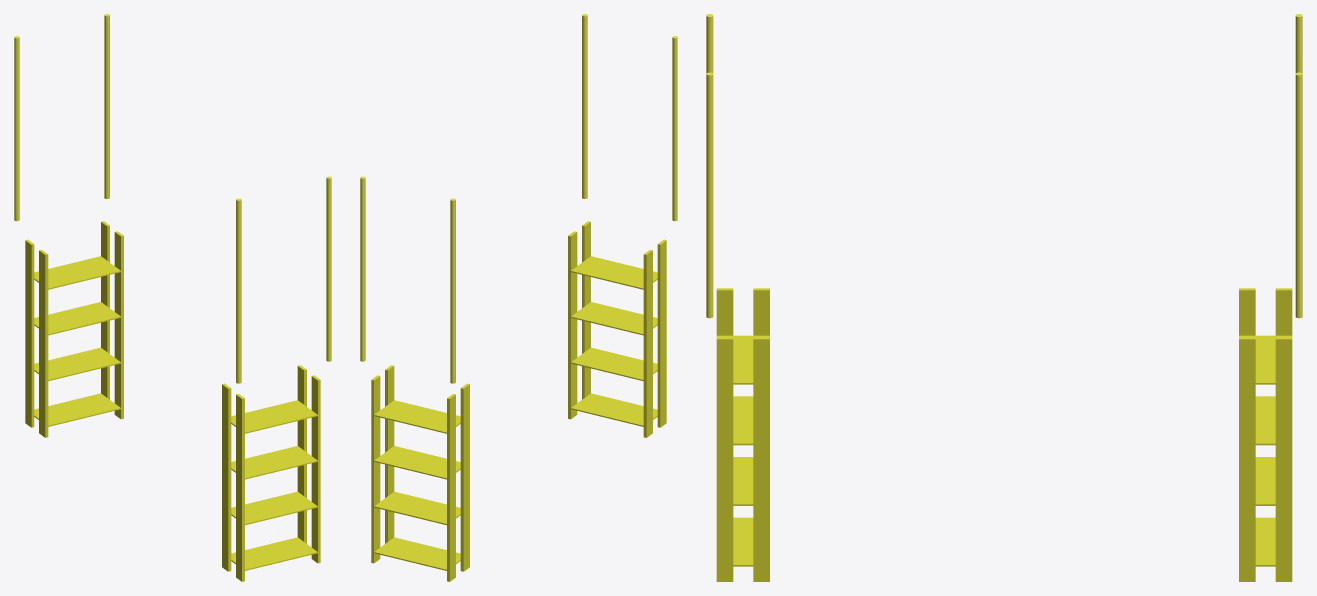
The model's file is PF-L140_cab_steps_grabs.glb.
3 renders of one model, left to right at view 1: azimuth 30°, elevation 25°; view 2: azimuth 150°, elevation 25°; view 3: azimuth 270°, elevation 25°, orthographic. The views are drawn at different scales.
Visible parts, largest first — view 1: 015 step stringer FB 20x75, 004 step stringer FB 20x75, 005 step stringer FB 20x75, 016 step stringer FB 20x75, 007 step stringer FB 20x75, 014 step stringer FB 20x75, 000 cab step tread PL8 grip strut, 001 cab step tread PL8 grip strut, 002 cab step tread PL8 grip strut, 003 cab step tread PL8 grip strut, 010 cab step tread PL8 grip strut, 011 cab step tread PL8 grip strut (+8 smaller); view 2: 005 step stringer FB 20x75, 014 step stringer FB 20x75, 015 step stringer FB 20x75, 006 step stringer FB 20x75, 017 step stringer FB 20x75, 004 step stringer FB 20x75, 010 cab step tread PL8 grip strut, 011 cab step tread PL8 grip strut, 012 cab step tread PL8 grip strut, 013 cab step tread PL8 grip strut, 000 cab step tread PL8 grip strut, 001 cab step tread PL8 grip strut (+8 smaller); view 3: 006 step stringer FB 20x75, 016 step stringer FB 20x75, 007 step stringer FB 20x75, 017 step stringer FB 20x75, 009 grab iron Ã32 solid A36, 019 grab iron Ã32 solid A36, 000 cab step tread PL8 grip strut, 010 cab step tread PL8 grip strut, 001 cab step tread PL8 grip strut, 003 cab step tread PL8 grip strut, 011 cab step tread PL8 grip strut, 013 cab step tread PL8 grip strut (+6 smaller).
Part boxes in pixels (x1=…): 015 step stringer FB 20x75: x1=222, y1=383, x2=231, y2=571; 004 step stringer FB 20x75: x1=25, y1=239, x2=34, y2=427; 005 step stringer FB 20x75: x1=39, y1=250, x2=48, y2=437; 016 step stringer FB 20x75: x1=311, y1=375, x2=320, y2=563; 007 step stringer FB 20x75: x1=114, y1=231, x2=123, y2=419; 014 step stringer FB 20x75: x1=236, y1=394, x2=244, y2=581; 000 cab step tread PL8 grip strut: x1=34, y1=256, x2=120, y2=289; 001 cab step tread PL8 grip strut: x1=34, y1=302, x2=120, y2=335; 002 cab step tread PL8 grip strut: x1=34, y1=347, x2=120, y2=381; 003 cab step tread PL8 grip strut: x1=34, y1=393, x2=120, y2=426; 010 cab step tread PL8 grip strut: x1=231, y1=400, x2=317, y2=433; 011 cab step tread PL8 grip strut: x1=231, y1=446, x2=317, y2=479; 005 step stringer FB 20x75: x1=460, y1=383, x2=469, y2=571; 014 step stringer FB 20x75: x1=657, y1=239, x2=666, y2=427; 015 step stringer FB 20x75: x1=643, y1=250, x2=652, y2=437; 006 step stringer FB 20x75: x1=371, y1=375, x2=380, y2=563; 017 step stringer FB 20x75: x1=568, y1=231, x2=577, y2=419; 004 step stringer FB 20x75: x1=447, y1=394, x2=455, y2=581; 010 cab step tread PL8 grip strut: x1=571, y1=256, x2=657, y2=289; 011 cab step tread PL8 grip strut: x1=571, y1=302, x2=657, y2=335; 012 cab step tread PL8 grip strut: x1=571, y1=347, x2=657, y2=381; 013 cab step tread PL8 grip strut: x1=571, y1=393, x2=657, y2=426; 000 cab step tread PL8 grip strut: x1=374, y1=400, x2=460, y2=433; 001 cab step tread PL8 grip strut: x1=374, y1=446, x2=460, y2=479; 006 step stringer FB 20x75: x1=1275, y1=337, x2=1292, y2=581; 016 step stringer FB 20x75: x1=716, y1=337, x2=733, y2=581; 007 step stringer FB 20x75: x1=1239, y1=337, x2=1255, y2=581; 017 step stringer FB 20x75: x1=753, y1=337, x2=769, y2=581; 009 grab iron Ã32 solid A36: x1=1295, y1=72, x2=1302, y2=318; 019 grab iron Ã32 solid A36: x1=706, y1=72, x2=713, y2=318; 000 cab step tread PL8 grip strut: x1=1239, y1=335, x2=1292, y2=384; 010 cab step tread PL8 grip strut: x1=716, y1=335, x2=769, y2=384; 001 cab step tread PL8 grip strut: x1=1255, y1=396, x2=1275, y2=445; 003 cab step tread PL8 grip strut: x1=1255, y1=517, x2=1275, y2=566; 011 cab step tread PL8 grip strut: x1=733, y1=396, x2=753, y2=445; 013 cab step tread PL8 grip strut: x1=733, y1=517, x2=753, y2=566.
Bounding box in the file's own units: 652 × 2530 × 2672.
